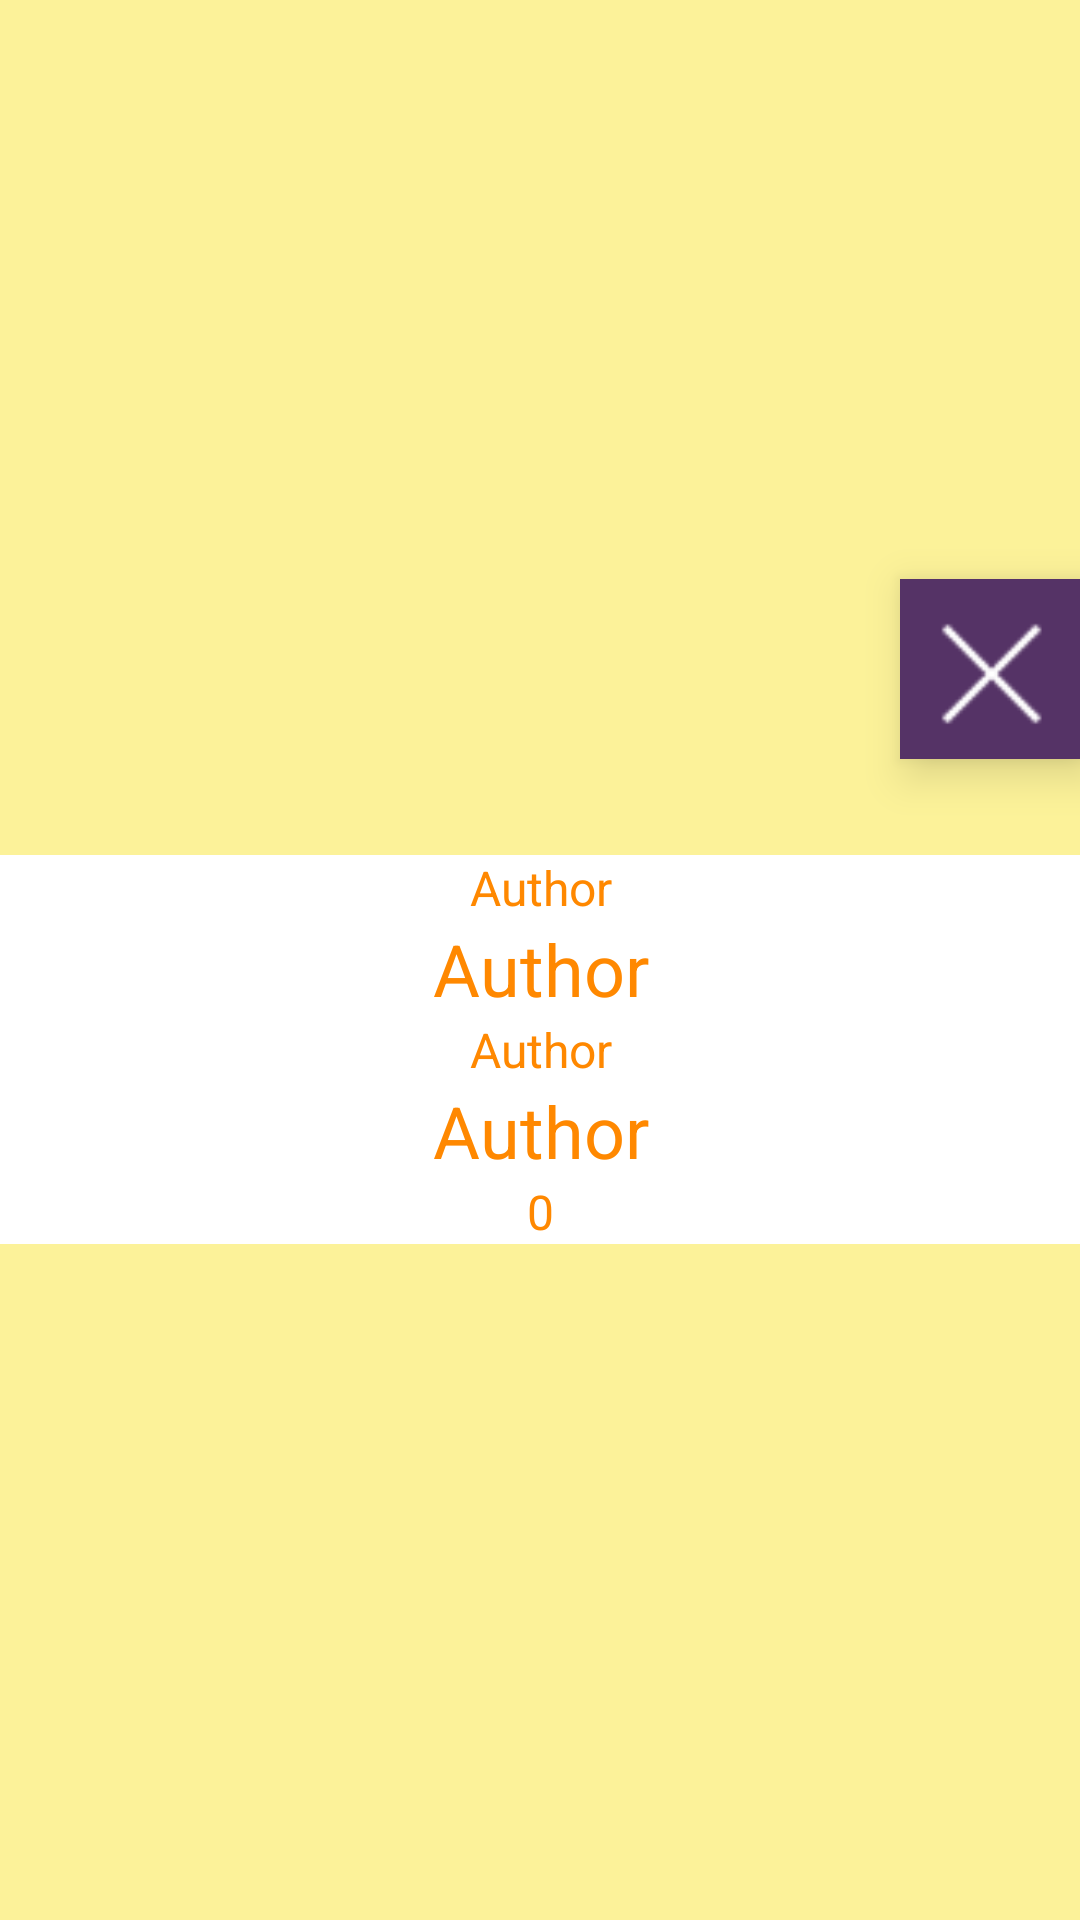

Icon bounding boxes for this 1080*1920 phone screenshot, format [x1,y1,x2,y2]:
close: [900,579,1080,759]
